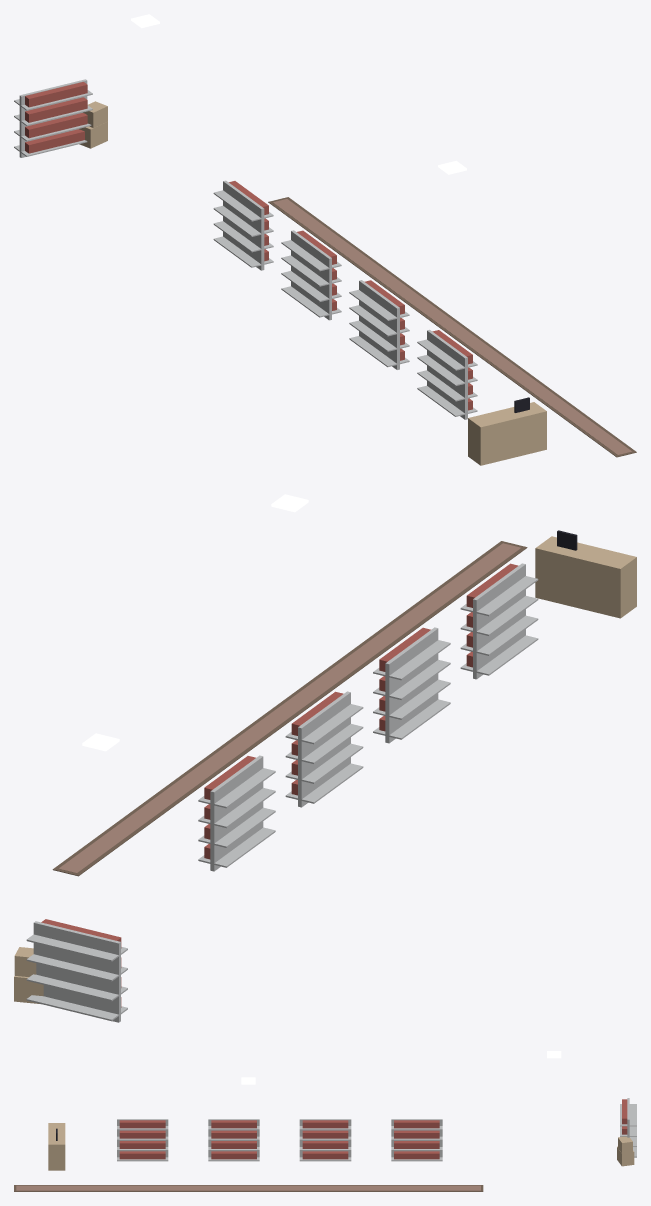
Rendered from fine-s0.glb.
The picture shows the model from 3 angles, top to bottom: view 1: azimuth 30°, elevation 25°; view 2: azimuth 150°, elevation 25°; view 3: azimuth 270°, elevation 25°; orthographic projection. The views are drawn at different scales.
Visible parts, largest first — view 1: soft-s0, shelving.000, shop-counter.000, shelf.000, shelf.002, shelf.001, shelf.003, cardboard-box.000; view 2: soft-s0, shelving.000, shop-counter.000, shelf.002, shelf.000, shelf.001, shelf.003, cardboard-box.000; view 3: soft-s0, shelf.001, shelf.000, shelf.002, shelf.003, shop-counter.000, shelving.000, cardboard-box.000.
Boxes of the visible parts, x1,y1,x2,y2 form: soft-s0: (268, 197, 636, 457); shelving.000: (14, 79, 92, 157); shop-counter.000: (468, 397, 546, 465); shelf.000: (213, 180, 273, 270); shelf.002: (349, 280, 409, 369); shelf.001: (281, 230, 341, 320); shelf.003: (417, 329, 477, 419); cardboard-box.000: (79, 101, 107, 148); soft-s0: (52, 541, 527, 876); shelving.000: (26, 919, 127, 1022); shop-counter.000: (535, 530, 636, 618); shelf.002: (373, 627, 450, 743); shelf.000: (198, 755, 275, 871); shelf.001: (285, 691, 363, 807); shelf.003: (460, 563, 538, 679); cardboard-box.000: (14, 947, 43, 1003); soft-s0: (14, 1185, 483, 1191); shelf.001: (299, 1119, 351, 1161); shelf.000: (391, 1119, 442, 1161); shelf.002: (208, 1119, 259, 1161); shelf.003: (117, 1119, 168, 1161); shop-counter.000: (48, 1123, 65, 1170); shelving.000: (620, 1098, 636, 1157); cardboard-box.000: (617, 1136, 634, 1166).
Bounding box in the file's own units: 4.36 × 4.17 × 21.8.
